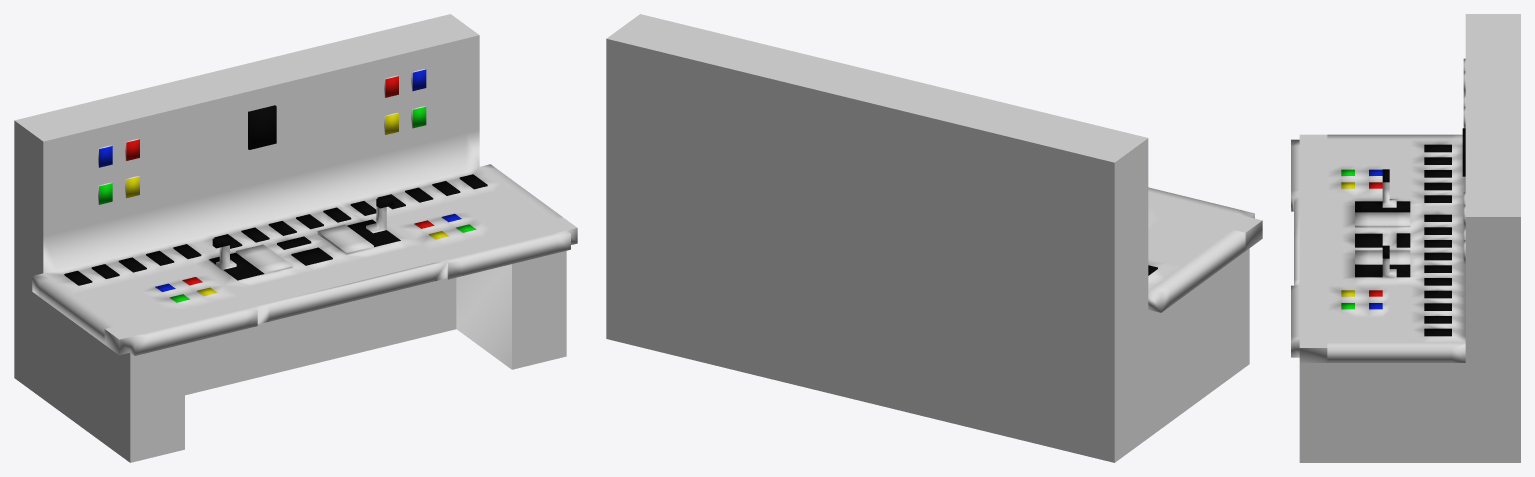
File: Control monitoring equipment.fbx
3 views of the same model, side by side, from view 1: azimuth 30°, elevation 25°; view 2: azimuth 150°, elevation 25°; view 3: azimuth 270°, elevation 25° (orthographic). The views are drawn at different scales.
Visible parts, largest first — view 1: Cube; view 2: Cube; view 3: Cube.
Boxes of the visible parts, x1,y1,x2,y2 form: Cube: (14,14,577,462); Cube: (606,14,1262,462); Cube: (1291,14,1520,462).
Bounding box in the file's own units: 2 × 1.07 × 0.9109.
